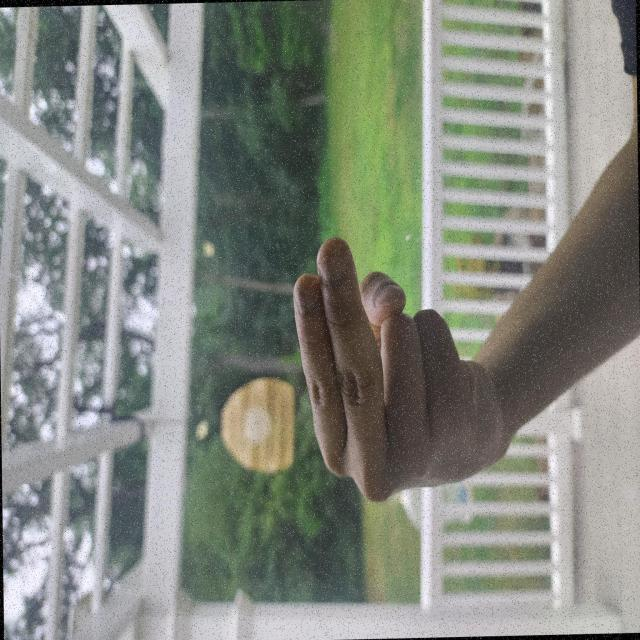H: (100, 387, 309, 640)
